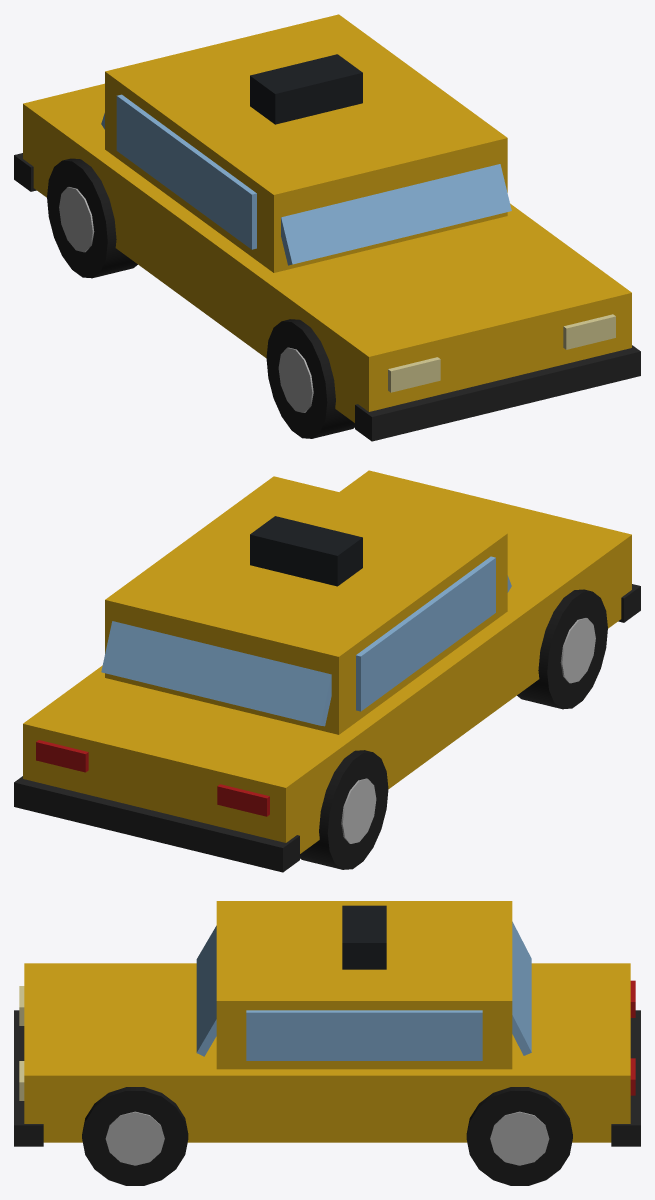
Rendered from taxi.glb.
3 renders of one model, top to bottom at view 1: azimuth 30°, elevation 25°; view 2: azimuth 150°, elevation 25°; view 3: azimuth 270°, elevation 25°, orthographic. The views are drawn at different scales.
Visible parts, largest first — view 1: taxi-body, wheel_RR, wheel_FR; view 2: taxi-body, wheel_FR, wheel_RR; view 3: taxi-body, wheel_FL, wheel_RL.
Part boxes in pixels (x1,y1,x2,y2): taxi-body: (14, 14, 640, 441); wheel_RR: (47, 158, 137, 278); wheel_FR: (266, 319, 354, 438); taxi-body: (14, 470, 640, 872); wheel_FR: (517, 589, 607, 709); wheel_RR: (300, 750, 388, 869); taxi-body: (14, 901, 640, 1146); wheel_FL: (82, 1087, 188, 1185); wheel_RL: (466, 1087, 572, 1185).
Bounding box in the file's own units: 1.94 × 1.5 × 4.24.
